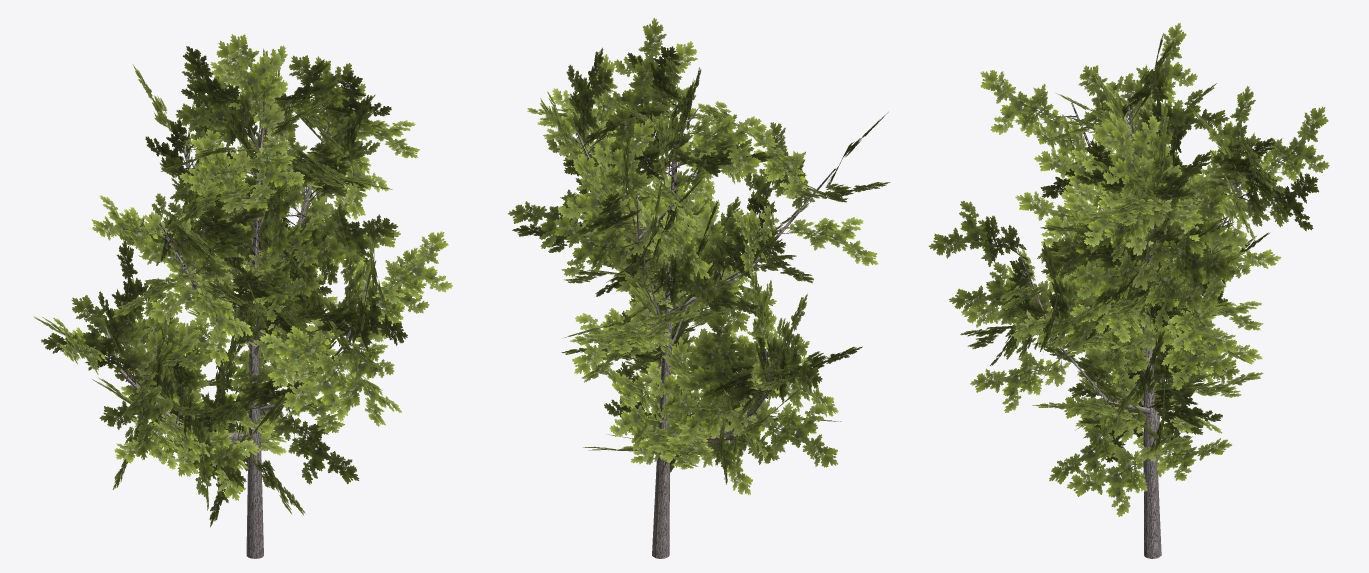
File: broadleaf.glb
3 views of the same model, side by side, from view 1: azimuth 30°, elevation 25°; view 2: azimuth 150°, elevation 25°; view 3: azimuth 270°, elevation 25° (orthographic).
Parts seen in each view (by area): view 1: 1_pngaaa.com-3905963_0, 1_bark-1_0; view 2: 1_pngaaa.com-3905963_0, 1_bark-1_0; view 3: 1_pngaaa.com-3905963_0, 1_bark-1_0.
Part boxes in pixels (x1=…): 1_pngaaa.com-3905963_0: x1=34, y1=34, x2=452, y2=527; 1_bark-1_0: x1=103, y1=90, x2=376, y2=558; 1_pngaaa.com-3905963_0: x1=508, y1=18, x2=890, y2=495; 1_bark-1_0: x1=576, y1=78, x2=835, y2=558; 1_pngaaa.com-3905963_0: x1=928, y1=22, x2=1329, y2=516; 1_bark-1_0: x1=1020, y1=80, x2=1252, y2=558.
Bounding box in the file's own units: 6.5 × 9 × 6.64.
Materials: 2 (2 with a texture image).
